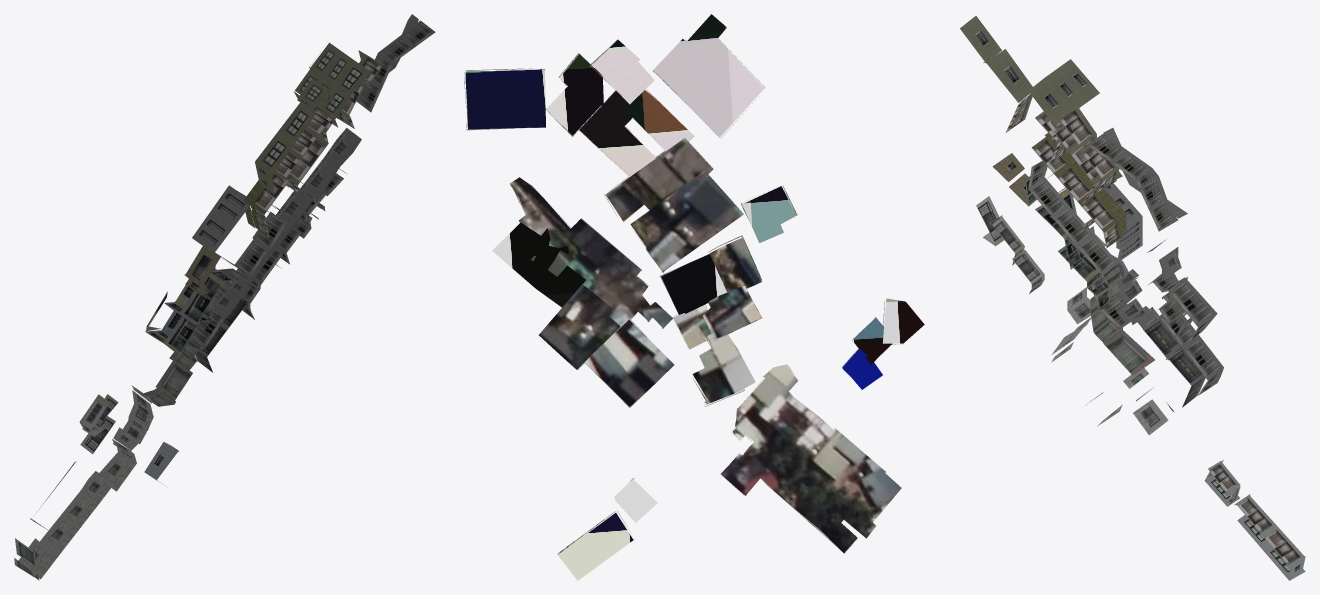
Rendered from tile_LOD4_r8_c3.glb.
The picture shows the model from 3 angles, left to right: view 1: azimuth 30°, elevation 25°; view 2: azimuth 150°, elevation 25°; view 3: azimuth 270°, elevation 25°; orthographic projection. The views are drawn at different scales.
Bounding box in the file's own units: 86.75 × 95.5 × 54.
Materials: 58 (57 with a texture image).
